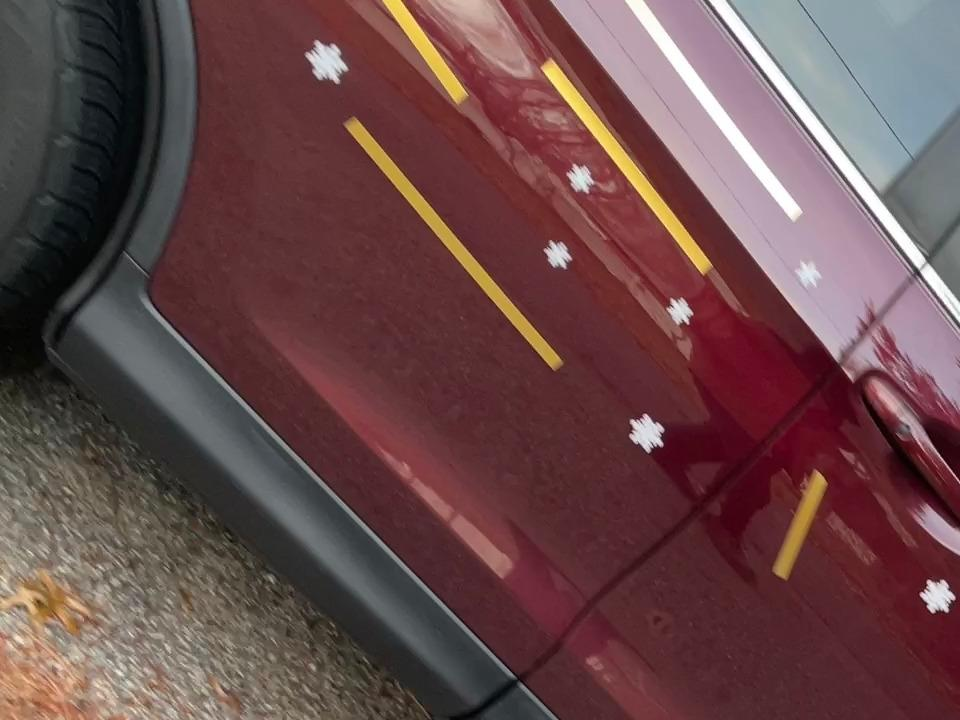dent: (306, 32, 352, 87), (625, 406, 673, 456), (915, 573, 960, 620), (791, 253, 832, 297), (539, 232, 579, 276), (664, 290, 700, 331), (562, 155, 596, 195), (956, 378, 960, 413)
scratch: (336, 108, 569, 376), (540, 51, 717, 283), (627, 0, 809, 222), (766, 467, 835, 586)
